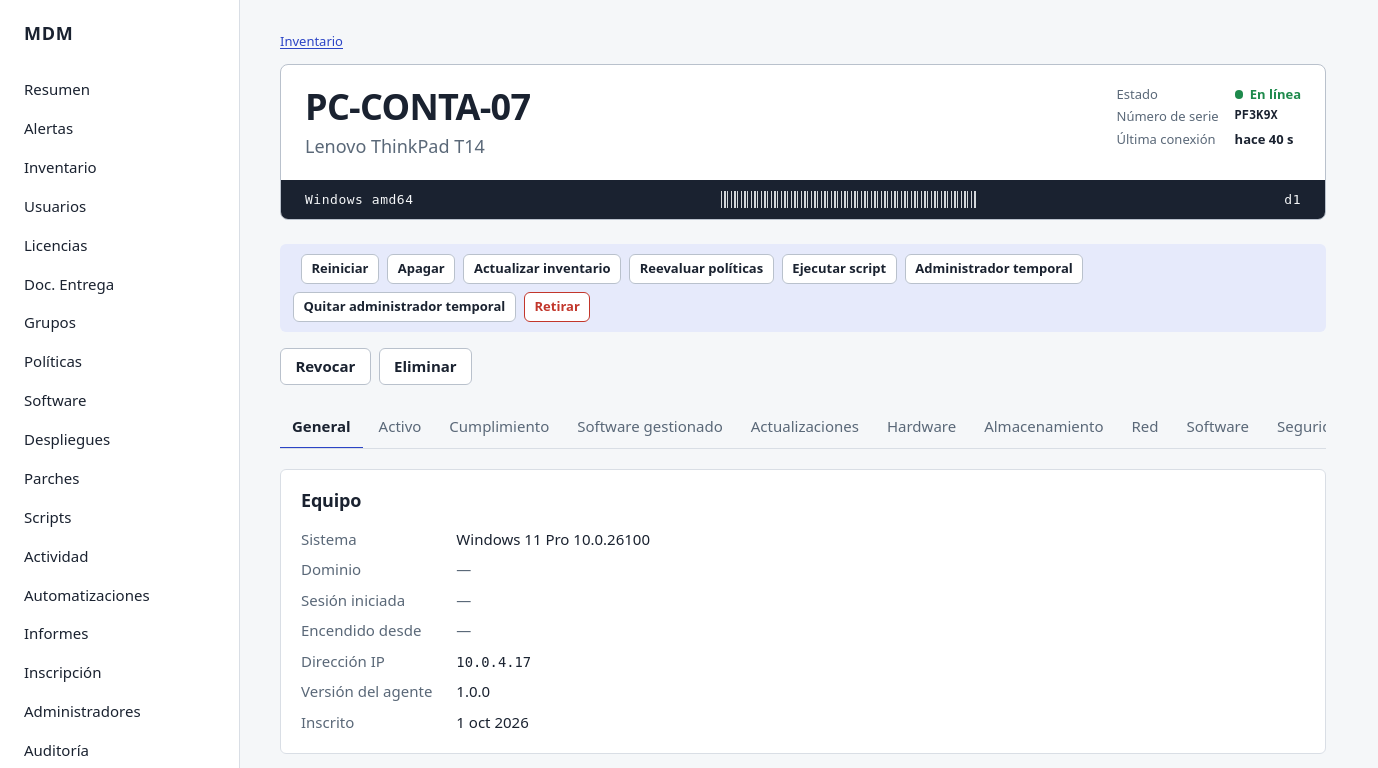
it: Ficha de dispositivo › sin inventario todavía lo explica
This screenshot has width=1378, height=768.
Click the tab "Hardware" at coordinates (922, 427), box [875,405,968,449]
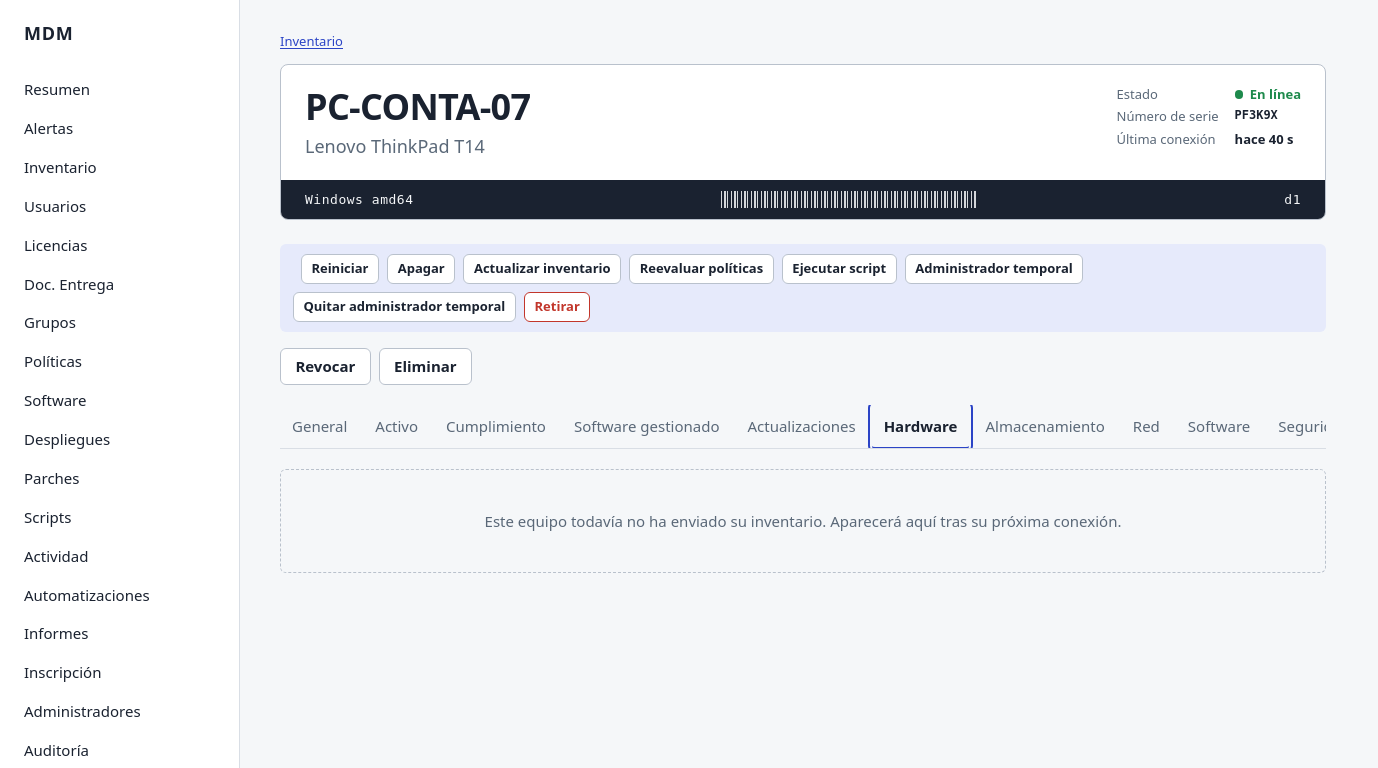
Now the text "todavía no ha enviado su inventario" is shown, box [485,511,1122,531]
